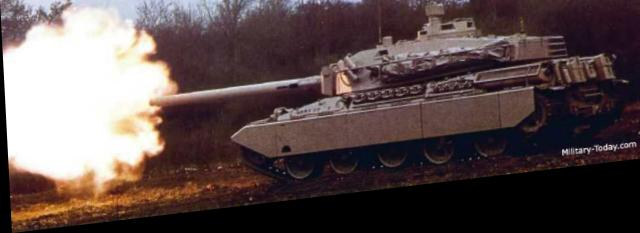tank: (226, 4, 631, 192)
